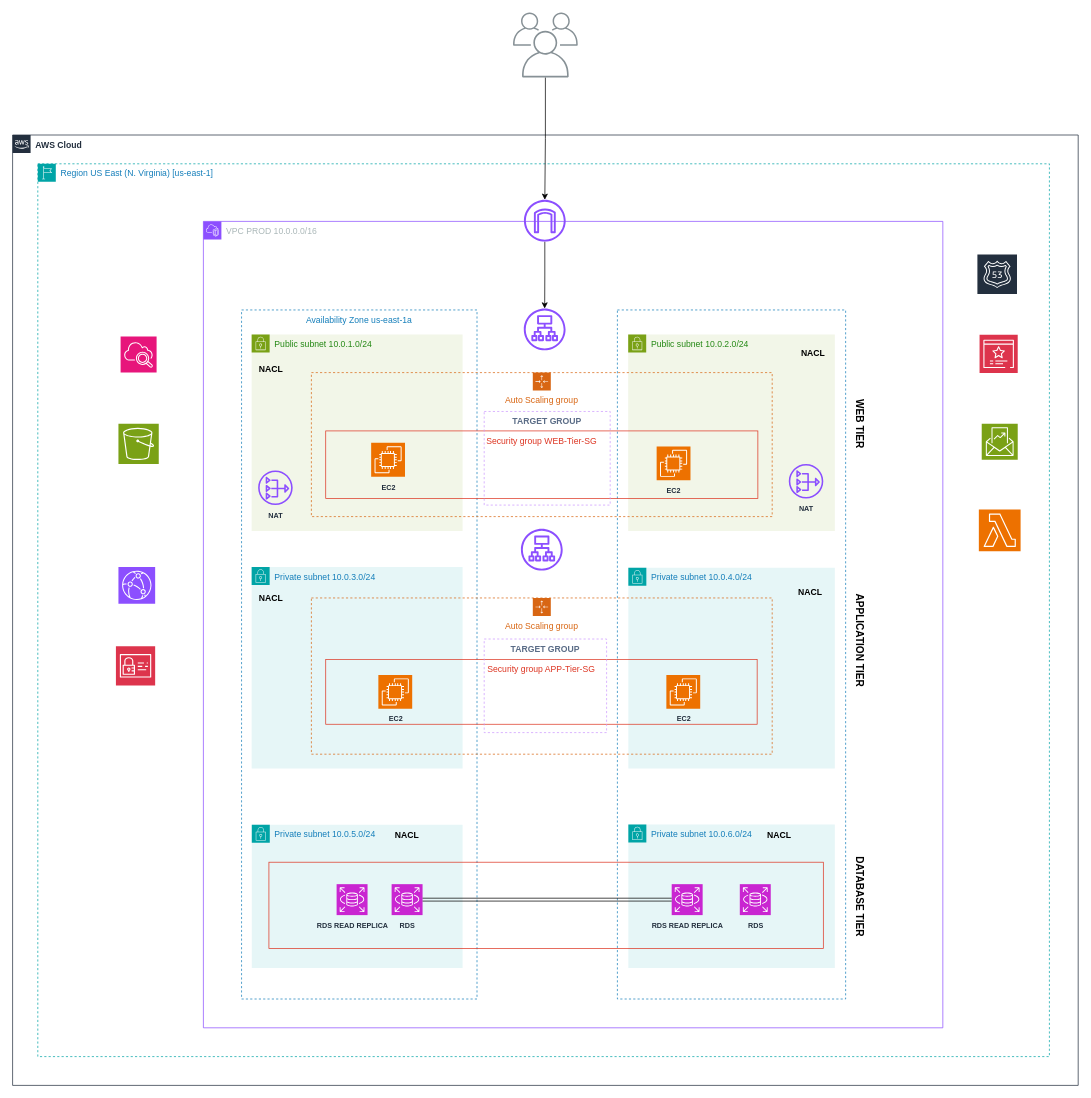
Some shapes in this 1091 by 1098 pixel diagram are drawn without their labels. The box of each missing label's shape, as (x1, y1, x2, y2) in pixels:
Amazon Route 53: (976, 253, 1018, 319)
APP-ALB: (521, 528, 562, 570)
AWS IAM: (115, 645, 155, 685)
BUDGETS: (981, 423, 1018, 460)
CERTIFICATE MANAGER: (979, 334, 1018, 373)
CLOUDFRONT: (118, 566, 155, 604)
CLOUDWATCH: (120, 336, 157, 373)
INTERNET GATEWAY: (524, 199, 565, 241)
LAMBDA: (978, 509, 1021, 551)
S3: (118, 423, 159, 464)
Security group DB-Tier-SG: (268, 861, 823, 949)
WEB-ALB: (523, 308, 565, 350)
